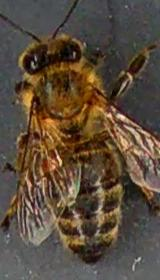varroa_mite: (36, 146, 60, 176)
